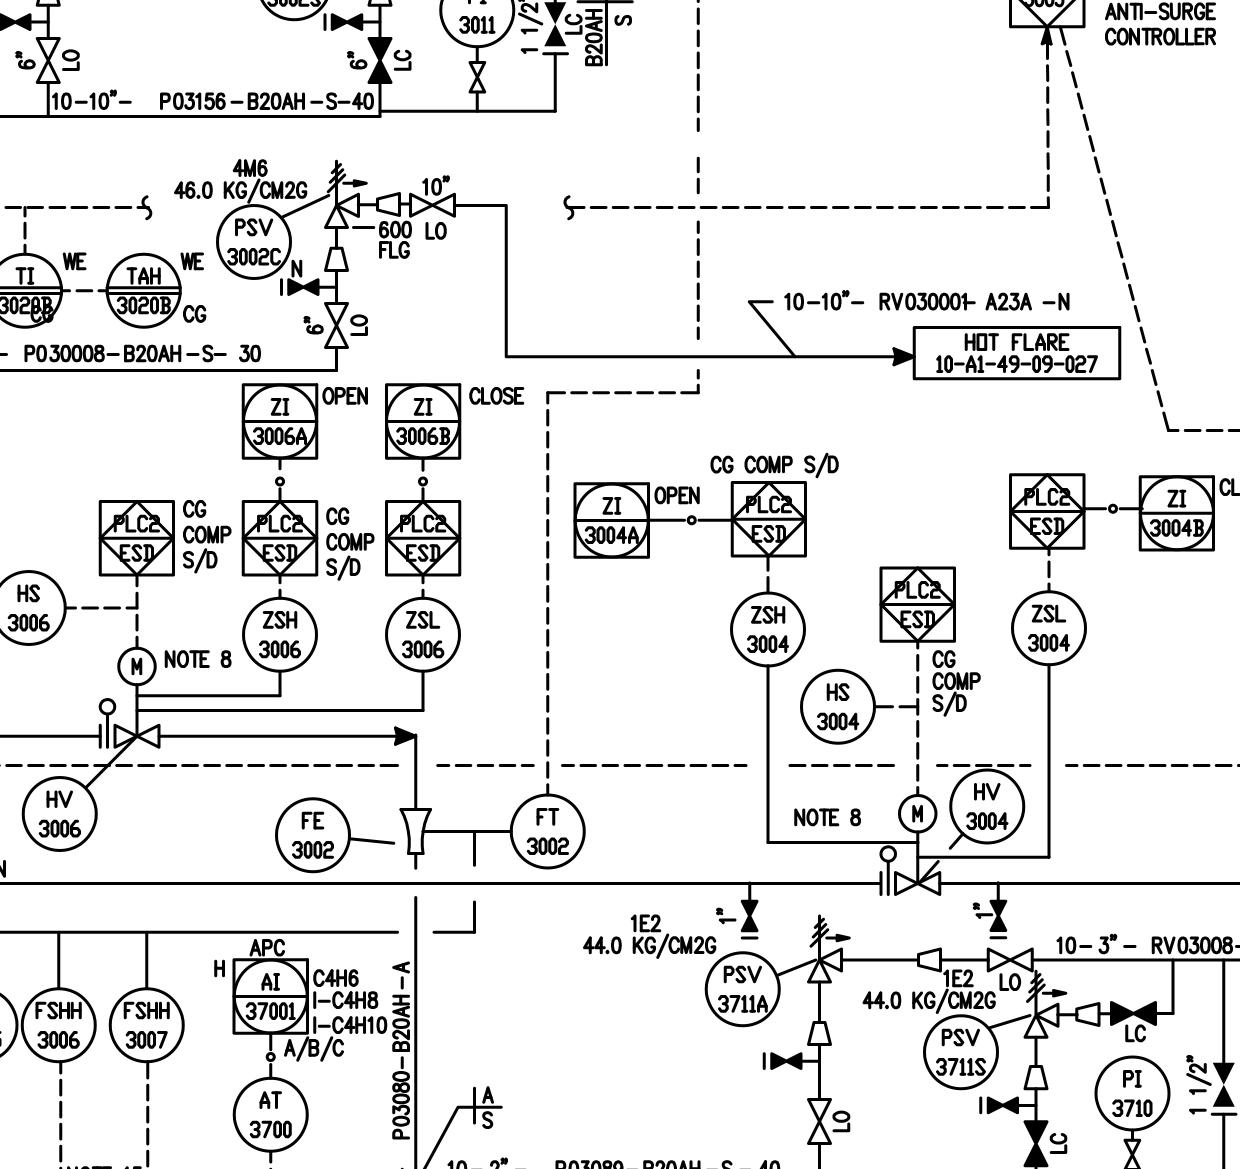Instrument Tag: (1006, 584, 1094, 671), (794, 663, 882, 749), (723, 584, 811, 671), (504, 787, 592, 873), (227, 951, 315, 1038), (919, 1009, 1007, 1095), (16, 771, 105, 857), (236, 378, 324, 464), (378, 379, 466, 465), (211, 198, 299, 283), (567, 477, 655, 563), (1133, 470, 1221, 556), (942, 761, 1030, 847), (272, 789, 360, 875), (15, 982, 103, 1068), (103, 981, 191, 1067), (226, 1067, 314, 1153), (703, 948, 791, 1034), (1092, 1051, 1180, 1137)
Line Number: (51, 89, 376, 114), (785, 288, 1077, 315), (1, 339, 266, 363)
PSV: (322, 153, 373, 234), (801, 906, 852, 987), (1020, 967, 1071, 1048)
Reducer: (804, 1012, 837, 1051), (914, 940, 947, 980), (369, 185, 402, 224), (1021, 1058, 1054, 1096), (1071, 997, 1104, 1035), (320, 240, 353, 278)
Valve: (405, 186, 463, 223), (31, 30, 64, 91), (319, 293, 351, 354), (804, 1093, 838, 1149), (111, 720, 166, 754), (889, 867, 943, 901), (983, 945, 1038, 979), (462, 54, 492, 102), (1120, 1135, 1149, 1169)
